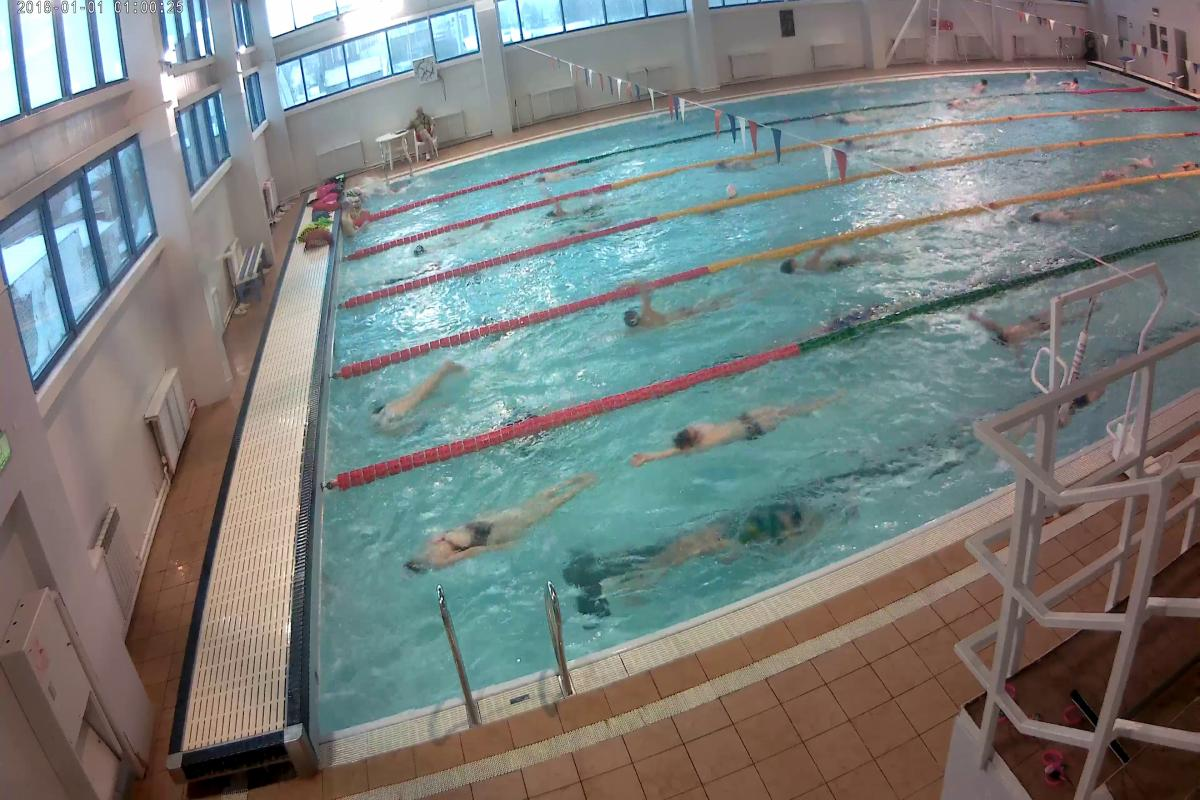swimmer: (391, 476, 590, 573), (629, 389, 839, 470), (653, 509, 829, 586), (359, 358, 463, 446), (1010, 190, 1118, 233), (614, 297, 729, 336), (777, 250, 866, 280), (1000, 306, 1057, 344), (1098, 152, 1161, 180)
